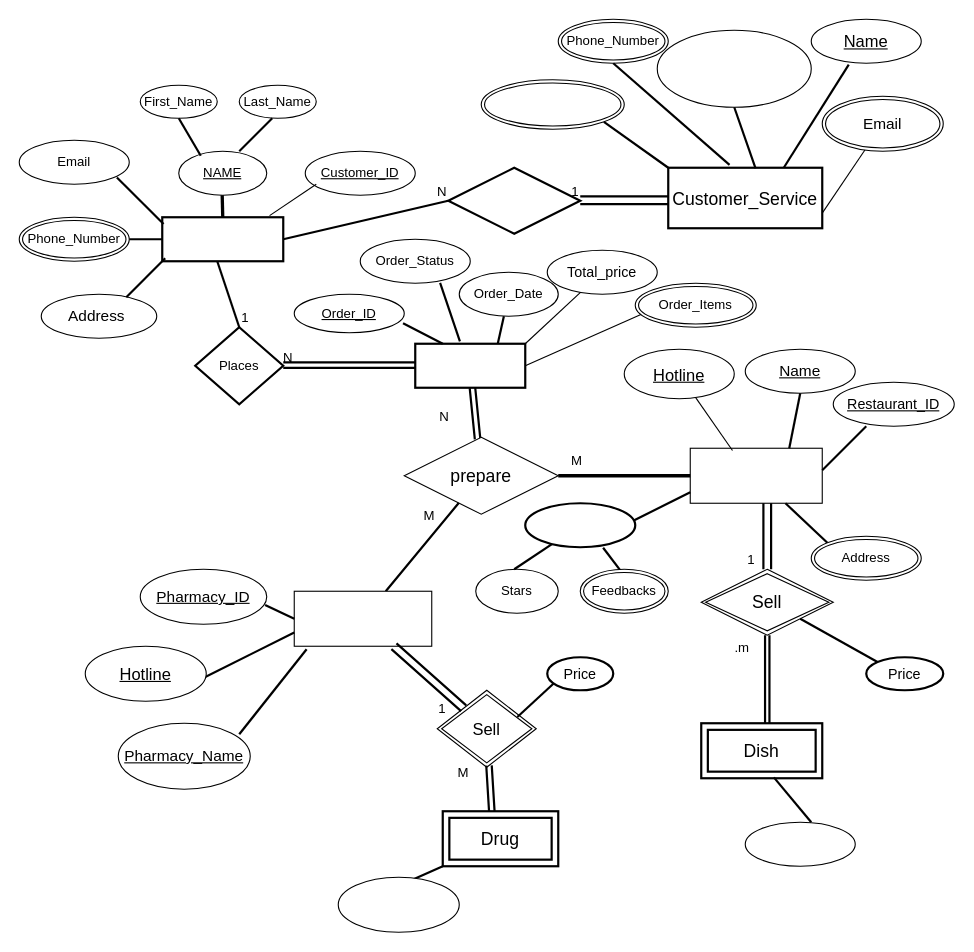
This 974x952 diagram has some shape labels left out. Here are the shapes that lost their labels. From the top down, the centre of each, then its label:
the point at 733,68: Custome_Service_ID
the point at 552,104: Language_Proficiency
the point at 514,200: Calls
the point at 222,239: Customer
the point at 470,365: Order
the point at 755,475: Restaurant
the point at 580,525: Rate
the point at 362,618: Pharmacy
the point at 799,843: Dish_name
the point at 398,904: Trade_name
